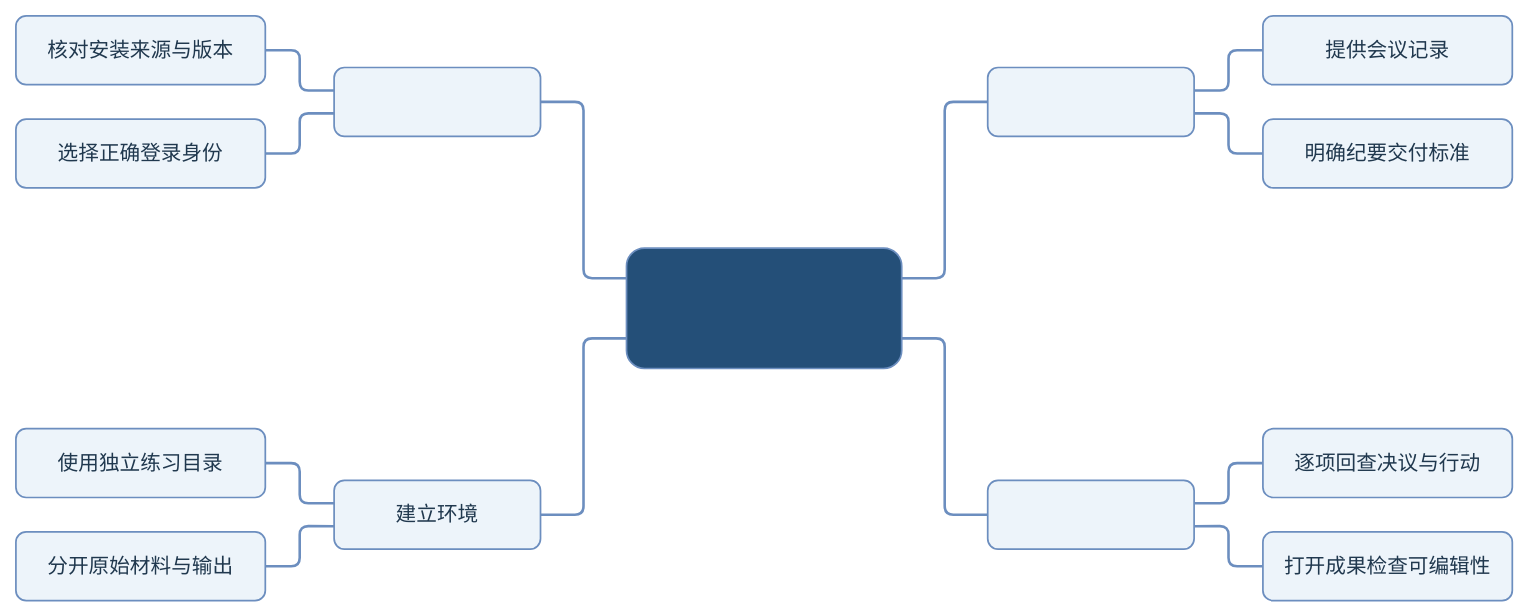
The diagram is 1527 pixels wide and 616 high, and some of its shapes have lost their labels. The box of each missing label's shape, as (x1, y1, x2, y2) in pixels:
准备入口: (333, 66, 541, 137)
创建任务: (986, 66, 1195, 137)
完成验收: (986, 479, 1195, 550)
第2章 快速上手: (625, 247, 902, 369)
